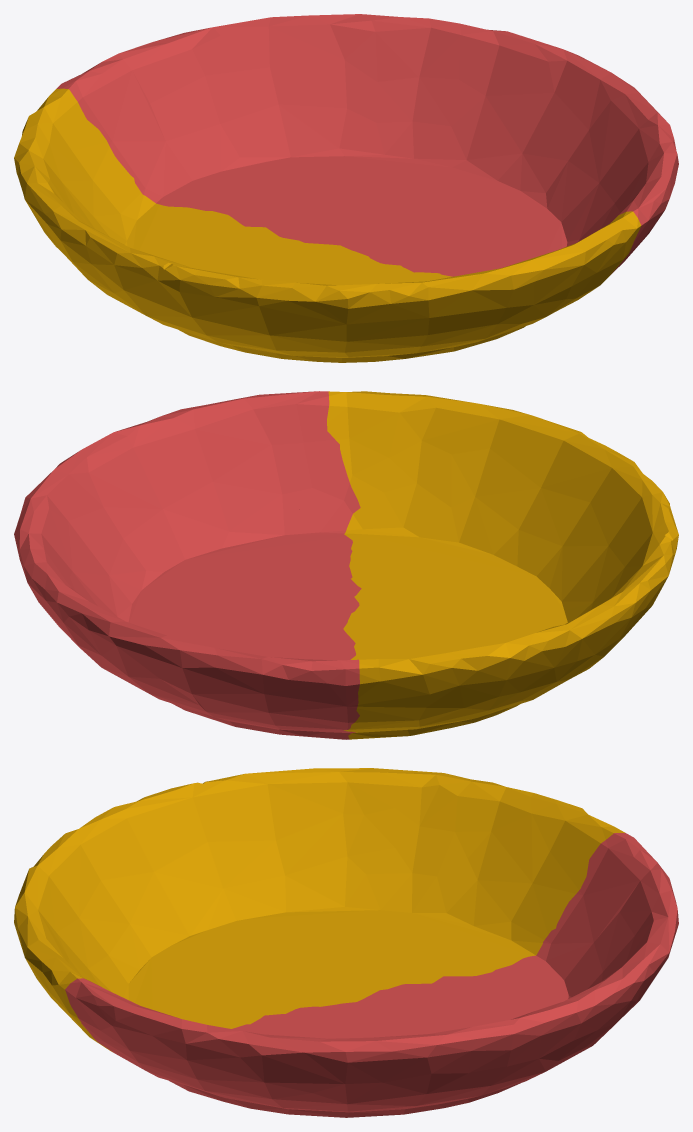
The model's file is mode_1_2pcs.glb.
3 views of the same model, one above another, from view 1: azimuth 30°, elevation 25°; view 2: azimuth 150°, elevation 25°; view 3: azimuth 270°, elevation 25° (orthographic).
Visible parts, largest first — view 1: piece_1.obj, piece_0.obj; view 2: piece_1.obj, piece_0.obj; view 3: piece_0.obj, piece_1.obj.
Boxes of the visible parts, x1,y1,x2,y2 form: piece_1.obj: (56, 14, 678, 276); piece_0.obj: (14, 88, 641, 362); piece_1.obj: (14, 391, 361, 739); piece_0.obj: (327, 391, 678, 739); piece_0.obj: (14, 768, 625, 1051); piece_1.obj: (65, 833, 678, 1117).
Bounding box in the file's own units: 1 × 0.1956 × 0.9981.
